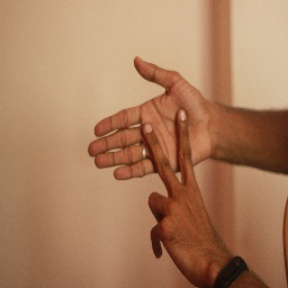N: (81, 52, 227, 242)
